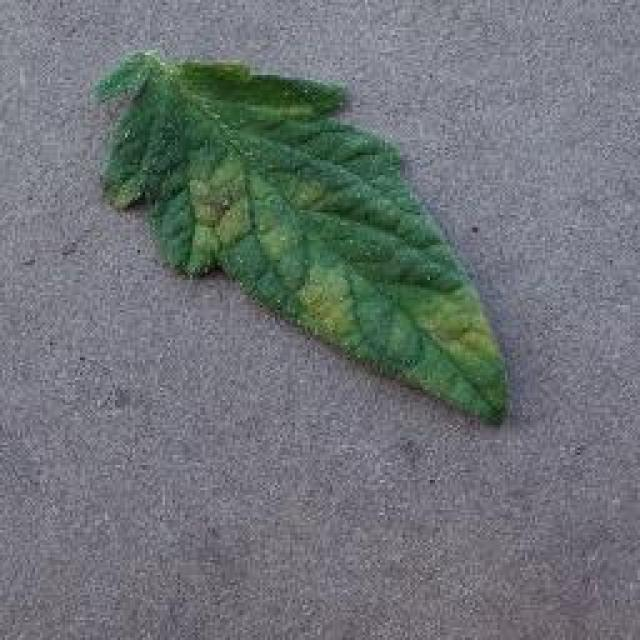Tomato___Leaf_Mold: (95, 52, 505, 420)
